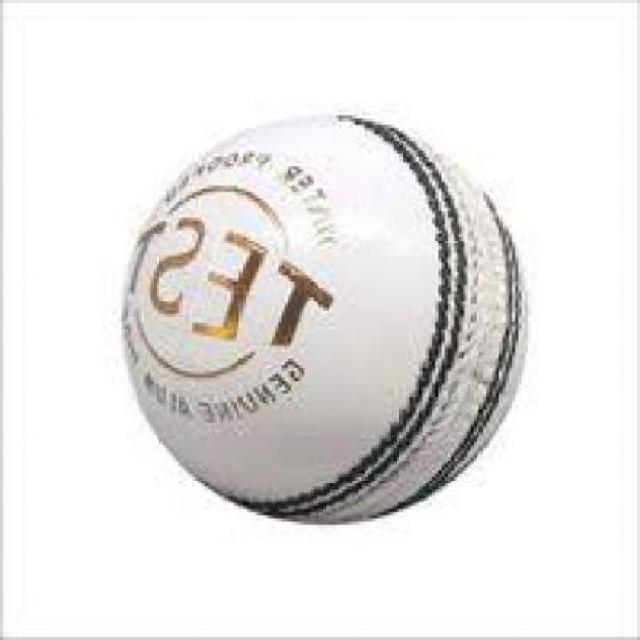ball: (83, 76, 564, 580)
